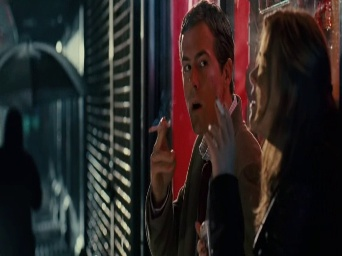smoke: (147, 119, 173, 134), (215, 96, 230, 120)
